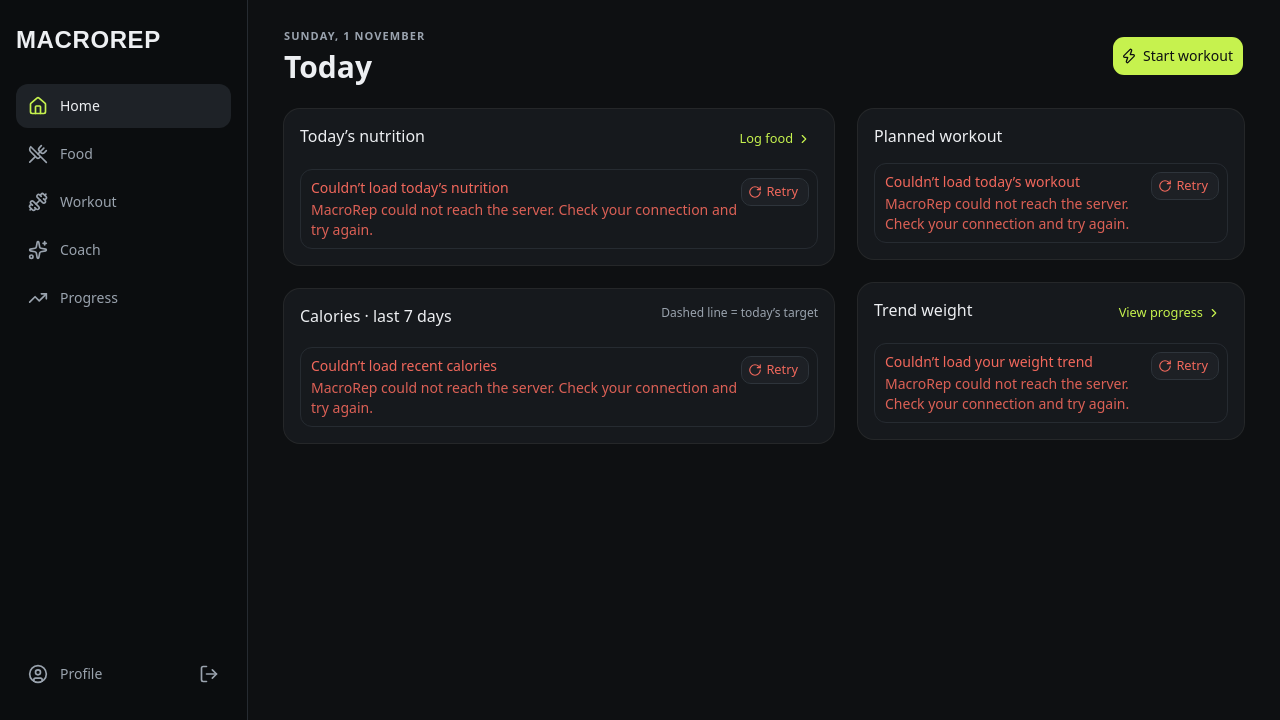
Test: App › signs out from the sidebar
Click the button named "Sign out". click: (209, 674)
box: 187,652 -> 231,696
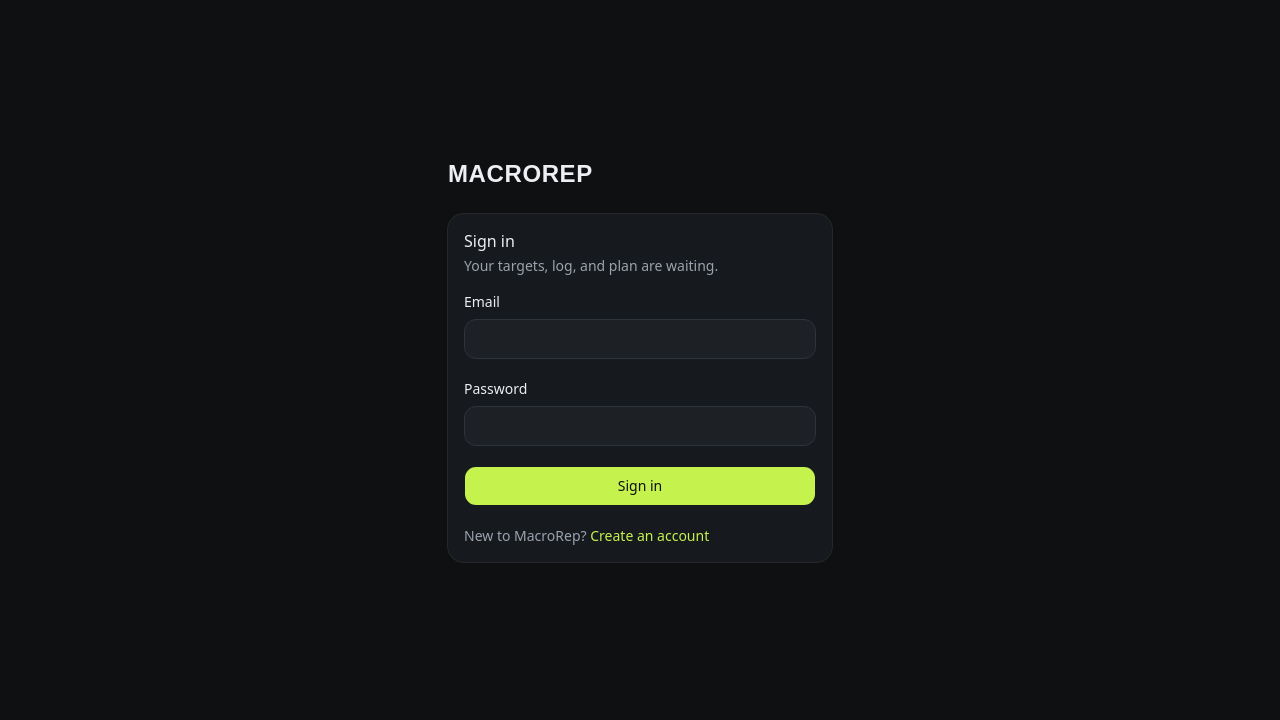
Result: the button "Sign in" is shown at 464,466 -> 816,506
